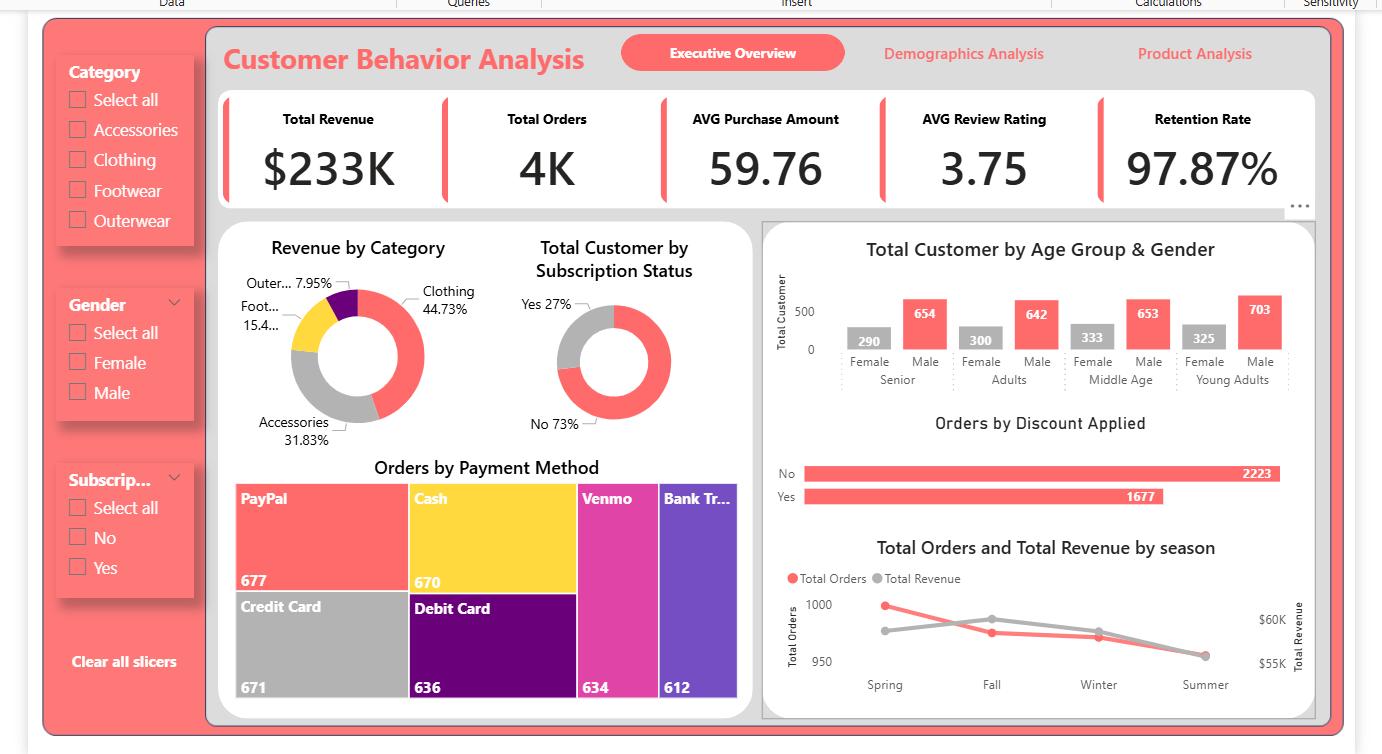

Layout of this report page (visuals, bound fields, positions):
{"tool":"powerbi","page":{"name":"Executive Overview","canvas":[1280,720],"ordinal":0},"visuals":[{"type":"shape","box":[183.4,203.9,516.4,480.2],"z":0},{"type":"shape","box":[183.4,77.2,1059.3,114.6],"z":1000},{"type":"shape","box":[708.2,203.9,534.5,480.2],"z":2000},{"type":"donutChart","title":"Revenue by Category","fields":{"Category":["mydatabase mytable.category"],"Y":["Measure table.Total Revenue"]},"box":[195.4,217.2,246.1,212.3],"z":3000},{"type":"clusteredColumnChart","title":"Total Customer by Age Group & Gender","fields":{"Category":["mydatabase mytable.age_group","mydatabase mytable.gender"],"Y":["Measure table.Total Customer"]},"box":[716.6,217.2,521.2,161.7],"z":4000},{"type":"lineChart","fields":{"Category":["mydatabase mytable.season"],"Y":["Measure table.Total Orders"],"Y2":["Measure table.Total Revenue"]},"box":[727.5,506.7,510.3,162.9],"z":5000},{"type":"treemap","title":"Orders by Payment Method","fields":{"Group":["mydatabase mytable.payment_method"],"Values":["Measure table.Total Orders"]},"box":[195.4,429.5,494.6,240.1],"z":6000},{"type":"donutChart","title":"Total Customer by Subscription Status","fields":{"Y":["Measure table.Total Customer"],"Category":["mydatabase mytable.subscription_status"]},"box":[441.6,217.2,248.5,201.5],"z":7000},{"type":"barChart","title":"Orders by Discount Applied","fields":{"Y":["Measure table.Total Orders"],"Category":["mydatabase mytable.discount_applied"]},"box":[716.6,388.5,521.2,114.6],"z":8000},{"type":"cardVisual","fields":{"Data":["Measure table.Total Revenue","Measure table.Total Orders","Measure table.Average Purchase Amount","Measure table.Average Review Rating","Measure table.Retention Rate"]},"box":[183.4,78.4,1059.3,114.6],"z":9000},{"type":"pageNavigator","box":[571.9,22.9,666,36.2],"z":10000},{"type":"slicer","fields":{"Values":["mydatabase mytable.category"]},"box":[26,43.9,133.9,184.6],"z":11000},{"type":"slicer","fields":{"Values":["mydatabase mytable.gender"]},"box":[26,268.3,133.9,129.1],"z":12000},{"type":"slicer","fields":{"Values":["mydatabase mytable.subscription_status"]},"box":[26,437.2,133.9,131.5],"z":13000},{"type":"actionButton","box":[36.3,608.5,113.4,38.6],"z":14000},{"type":"textbox","box":[183.4,22.9,395.7,54.3],"z":15000}]}

Visuals, with their boxes on the page's 1280x720 design canvas (x1, y1, x2, y2). These are canvas units, not pixel positions in the 1382x754 screenshot, which may show the page scaled, cropped or inside an application window:
shape: l=183, t=204, r=700, b=684
shape: l=183, t=77, r=1243, b=192
shape: l=708, t=204, r=1243, b=684
"Revenue by Category" donutChart: l=195, t=217, r=442, b=430
"Total Customer by Age Group & Gender" clusteredColumnChart: l=717, t=217, r=1238, b=379
lineChart - mydatabase mytable.season x Measure table.Total Orders: l=728, t=507, r=1238, b=670
"Orders by Payment Method" treemap: l=195, t=430, r=690, b=670
"Total Customer by Subscription Status" donutChart: l=442, t=217, r=690, b=419
"Orders by Discount Applied" barChart: l=717, t=388, r=1238, b=503
cardVisual - Measure table.Total Revenue x Measure table.Total Orders: l=183, t=78, r=1243, b=193
pageNavigator: l=572, t=23, r=1238, b=59
slicer - mydatabase mytable.category: l=26, t=44, r=160, b=228
slicer - mydatabase mytable.gender: l=26, t=268, r=160, b=397
slicer - mydatabase mytable.subscription_status: l=26, t=437, r=160, b=569
actionButton: l=36, t=608, r=150, b=647
textbox: l=183, t=23, r=579, b=77
